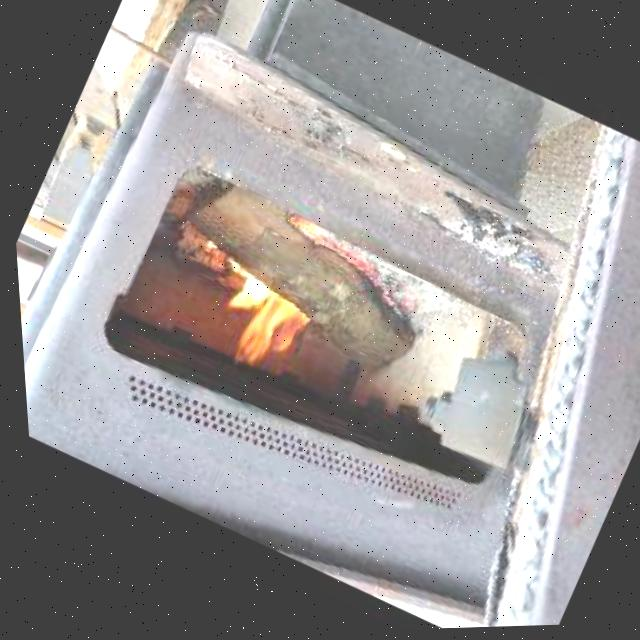Fire: (192, 264, 317, 383)
